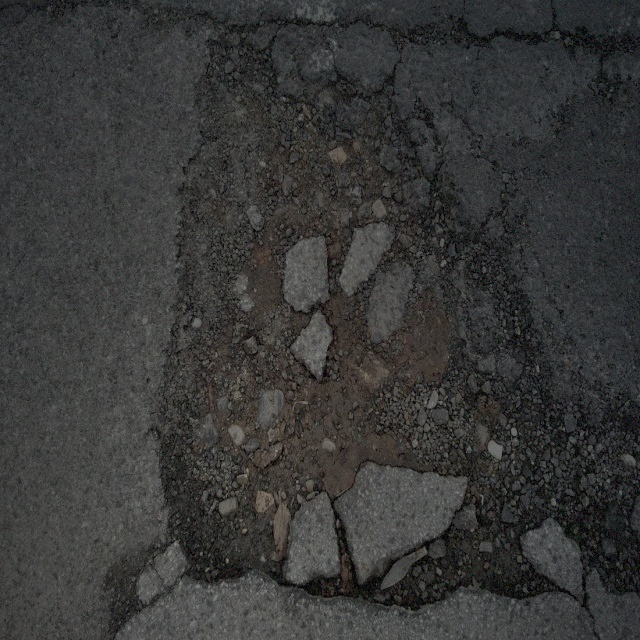pothole: (150, 23, 616, 614)
